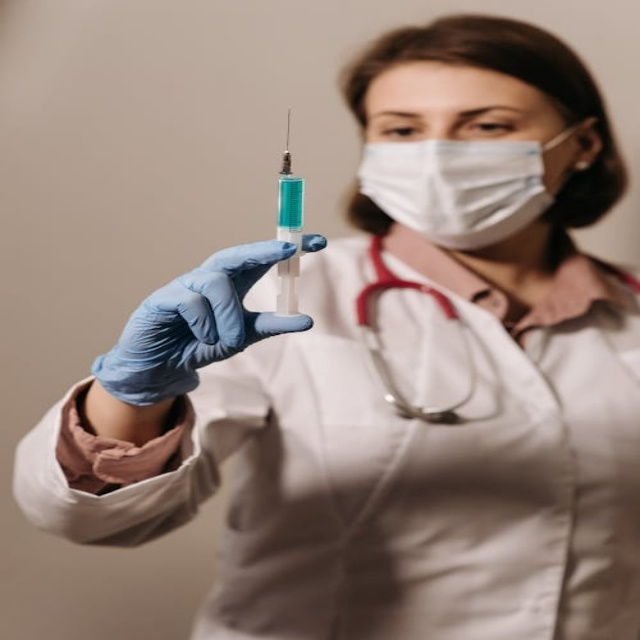Guantes: (90, 236, 322, 407)
Mascara: (360, 122, 576, 249)
Sin_gafas: (364, 97, 536, 141)
